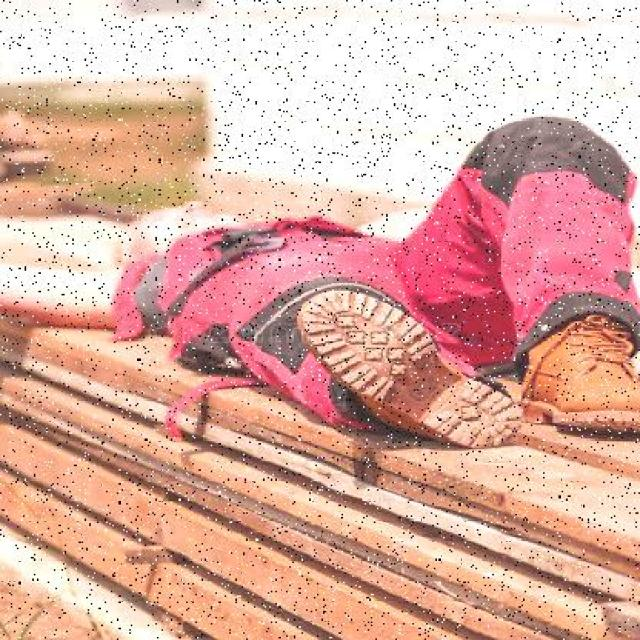shoes: (298, 298, 522, 450), (510, 310, 639, 447)
